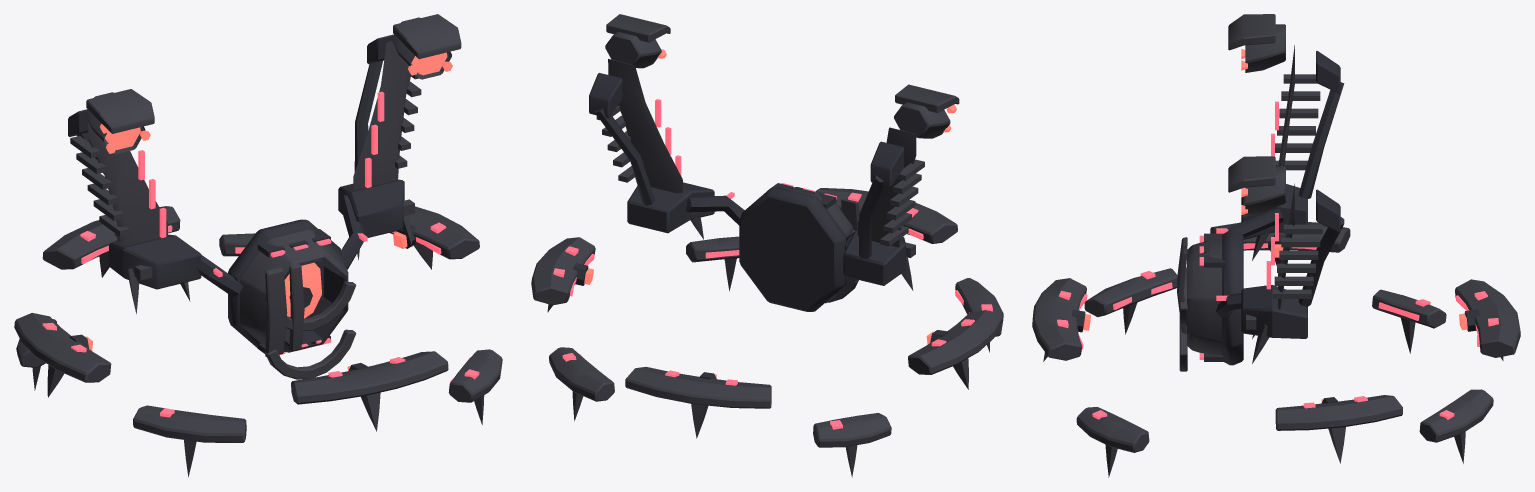
Rendered from sentinel_kit.glb.
3 views of the same model, side by side, from view 1: azimuth 30°, elevation 25°; view 2: azimuth 150°, elevation 25°; view 3: azimuth 270°, elevation 25° (orthographic). The views are drawn at different scales.
Parts seen in each view (by area): view 1: QuarantineHalo, CoreHousing, ScanPylon_L, ScanPylon_R; view 2: QuarantineHalo, CoreHousing, ScanPylon_R, ScanPylon_L; view 3: QuarantineHalo, ScanPylon_R, ScanPylon_L, CoreHousing.
Boxes of the visible parts, bbox=[...] form: QuarantineHalo: bbox=[14, 206, 502, 477]; CoreHousing: bbox=[197, 195, 367, 379]; ScanPylon_L: bbox=[68, 89, 201, 314]; ScanPylon_R: bbox=[338, 14, 461, 259]; QuarantineHalo: bbox=[531, 188, 1003, 477]; CoreHousing: bbox=[685, 183, 859, 311]; ScanPylon_R: bbox=[589, 14, 714, 239]; ScanPylon_L: bbox=[843, 84, 959, 290]; QuarantineHalo: bbox=[1032, 222, 1520, 477]; ScanPylon_R: bbox=[1228, 156, 1344, 363]; ScanPylon_L: bbox=[1228, 14, 1344, 260]; CoreHousing: bbox=[1177, 208, 1283, 371].
Bounding box in the file's own units: 1.2 × 0.9002 × 1.2.
